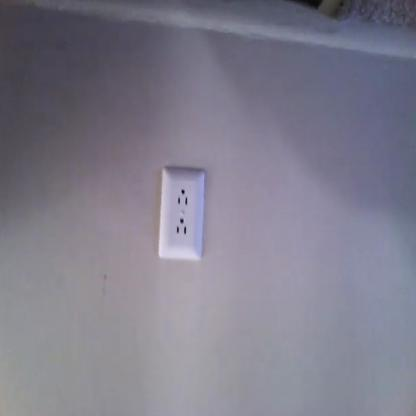OUTLET: (158, 170, 206, 260)
